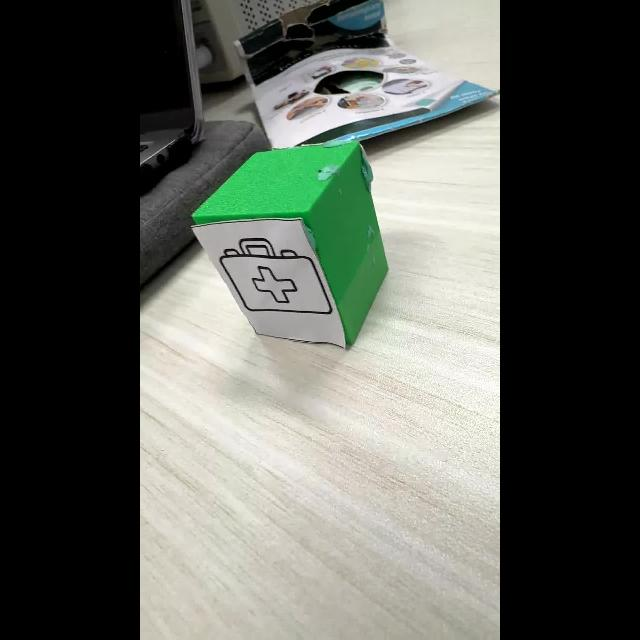Medkit: (219, 238, 332, 314)
